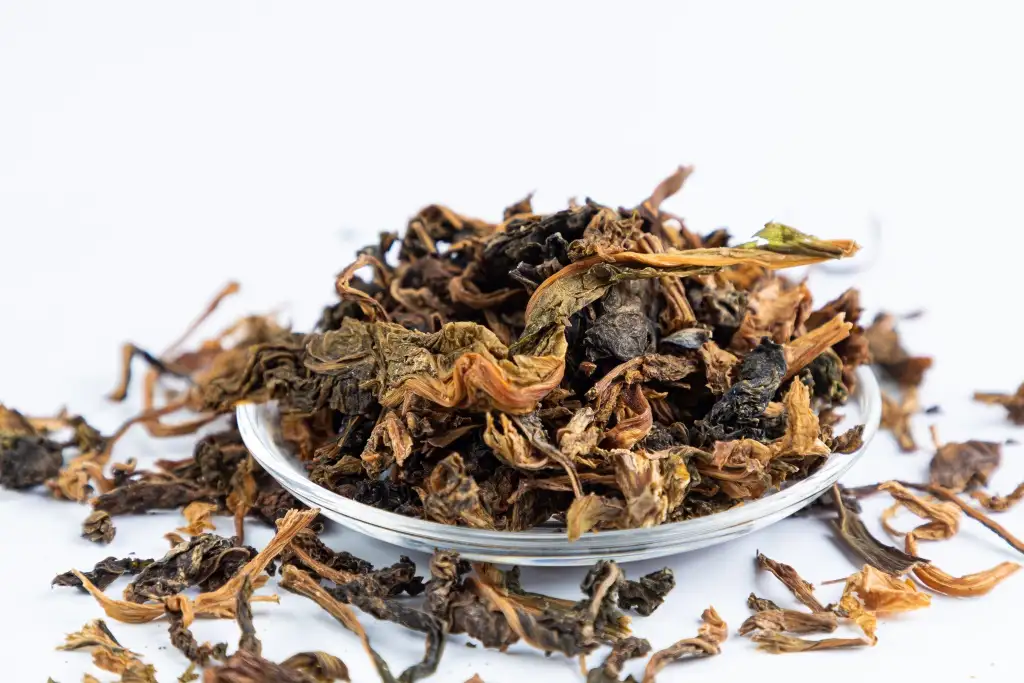gundruk: (257, 195, 843, 515)
